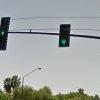Traffic light: (53, 18, 71, 54)
